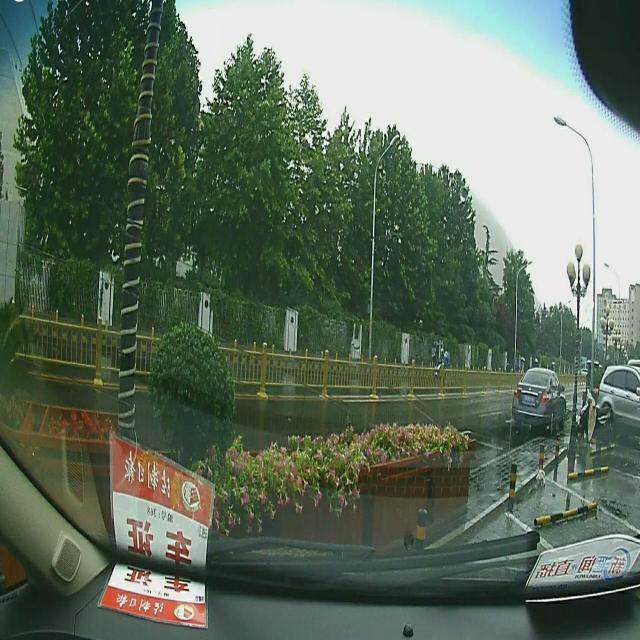car: (512, 367, 569, 432), (598, 364, 638, 430)
